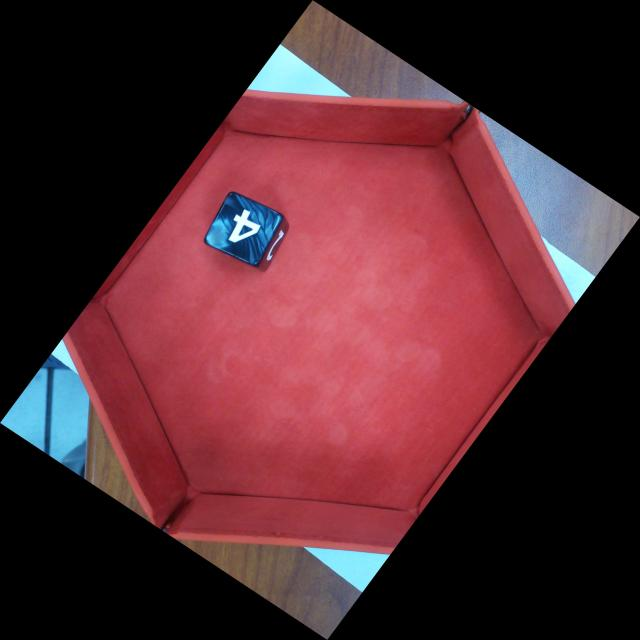dice: (201, 189, 285, 270)
